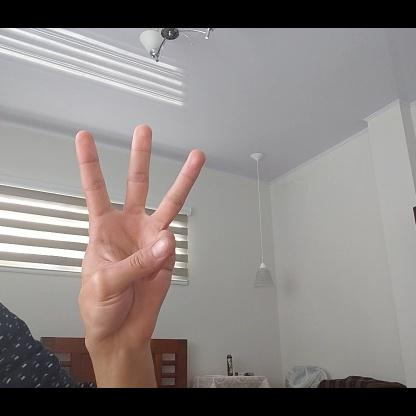W: (76, 125, 209, 349)
